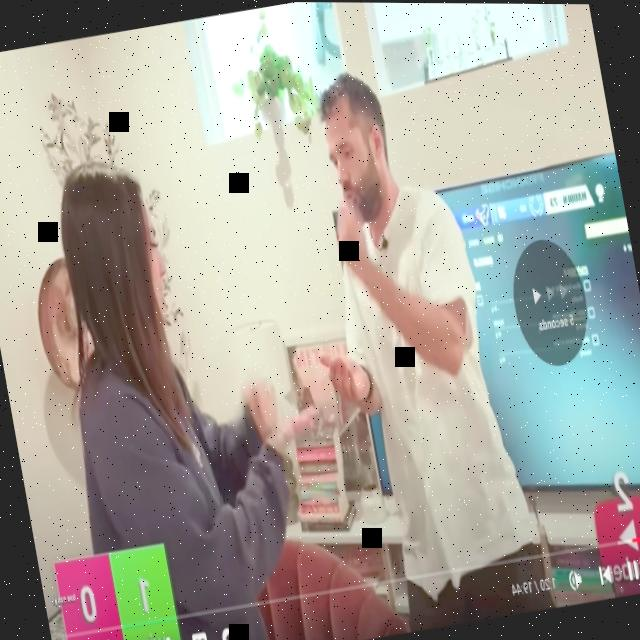Rock: (330, 200, 370, 281), (240, 375, 280, 441)
